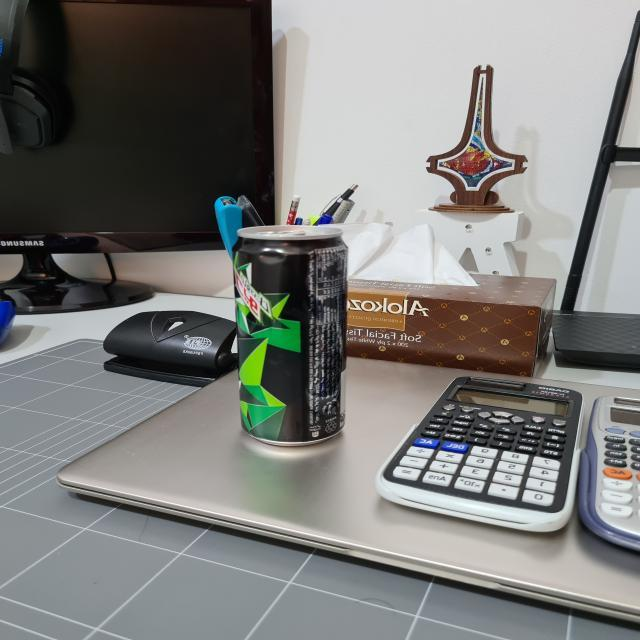can: (232, 225, 354, 450)
